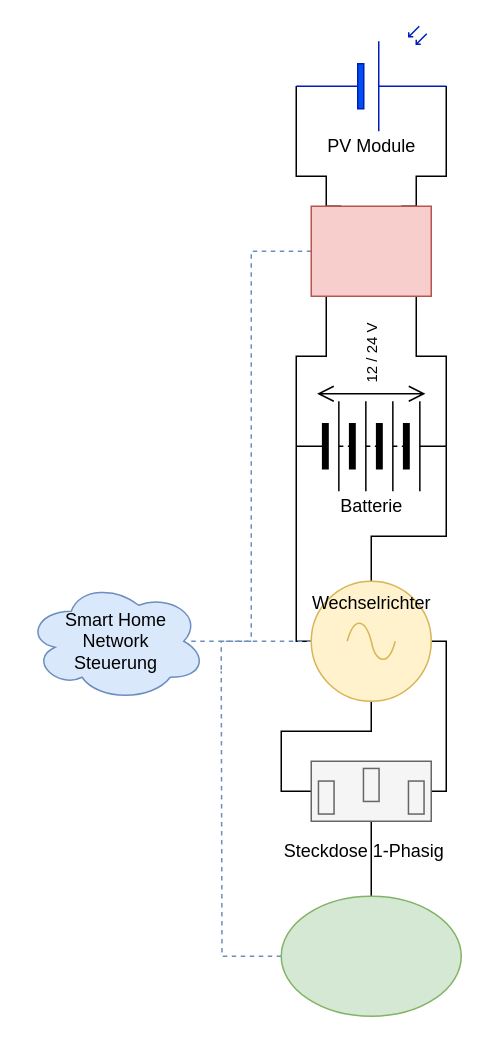
Image size: 488x1043. Some labels were removed from this diagram. The box of each missing label's shape, as (x1, y1, x2, y2) in pixels:
Energy Meter Verteilerkasten Haushalt: (280, 895, 461, 1016)
Laderegler MPPT / PWM: (310, 205, 431, 296)
